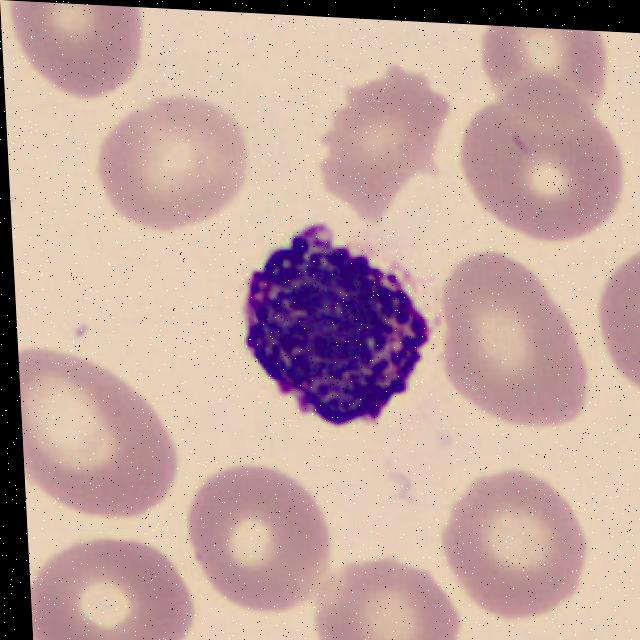basophil: (226, 224, 447, 441)
rbc: (456, 77, 635, 260), (18, 348, 187, 536), (430, 258, 593, 439), (304, 62, 476, 232), (182, 451, 344, 621), (437, 461, 595, 635), (91, 96, 261, 240), (0, 0, 157, 124), (28, 537, 206, 640), (480, 25, 616, 144), (298, 551, 455, 640), (587, 242, 640, 412)
